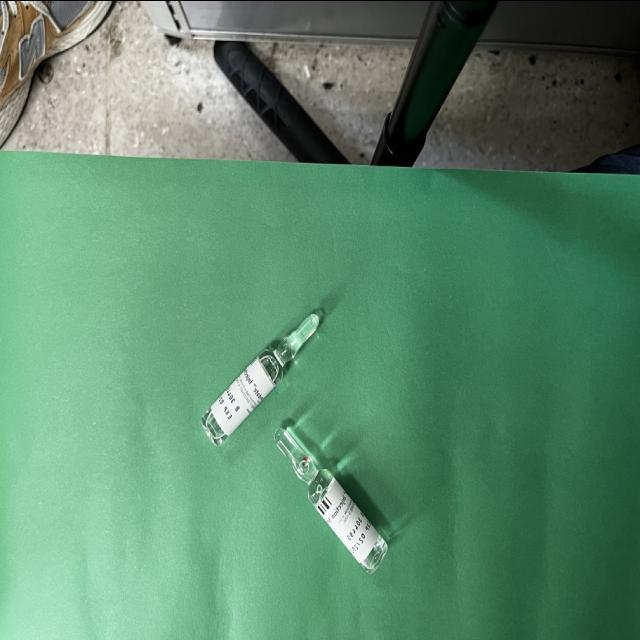Ampoules: (275, 427, 389, 573), (202, 313, 320, 446)
